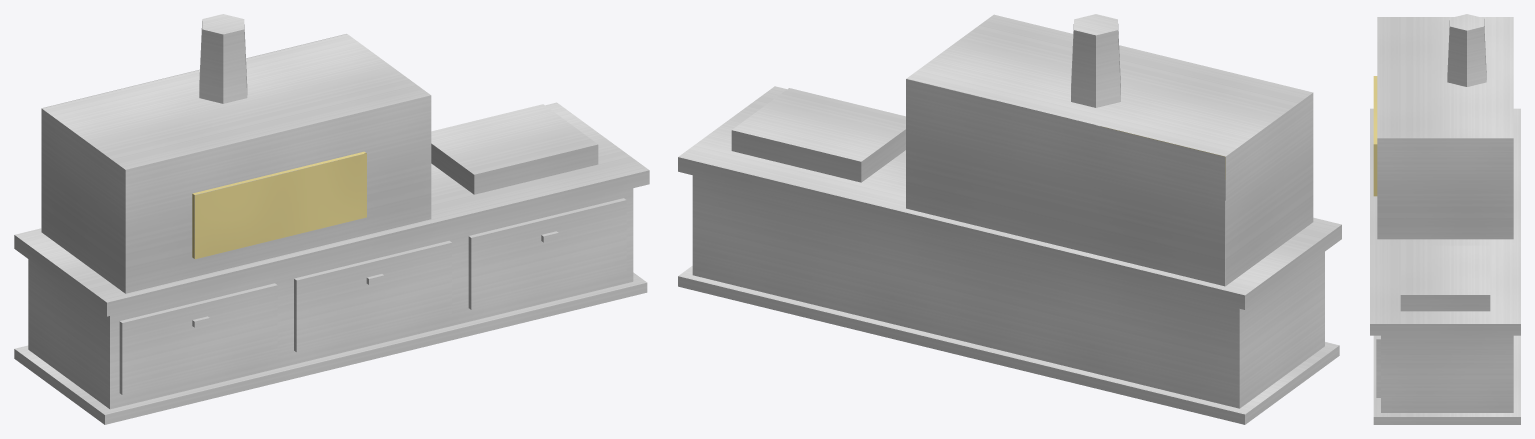
Rendered from bench_smelter.obj.
3 views of the same model, side by side, from view 1: azimuth 30°, elevation 25°; view 2: azimuth 150°, elevation 25°; view 3: azimuth 270°, elevation 25° (orthographic). The views are drawn at different scales.
Visible parts, largest first — view 1: bench_smelter; view 2: bench_smelter; view 3: bench_smelter.
Part boxes in pixels (x1,y1,x2,y2): bench_smelter: (14,14,649,424); bench_smelter: (678,14,1341,424); bench_smelter: (1370,14,1520,424).
Bounding box in the file's own units: 2.84 × 1.58 × 0.84.
